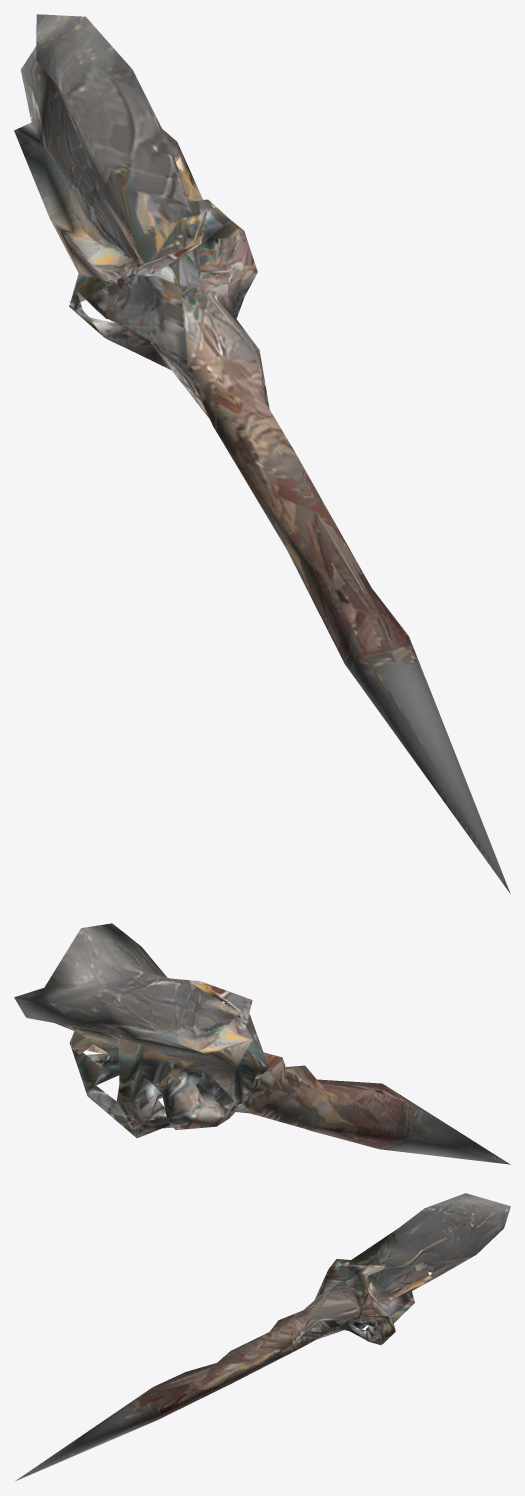
The model's file is thorn_dart.glb.
3 renders of one model, top to bottom at view 1: azimuth 30°, elevation 25°; view 2: azimuth 150°, elevation 25°; view 3: azimuth 270°, elevation 25°, orthographic. The views are drawn at different scales.
Bounding box in the file's own units: 0.2172 × 0.6396 × 0.9904.
1 material, 1 textured.
